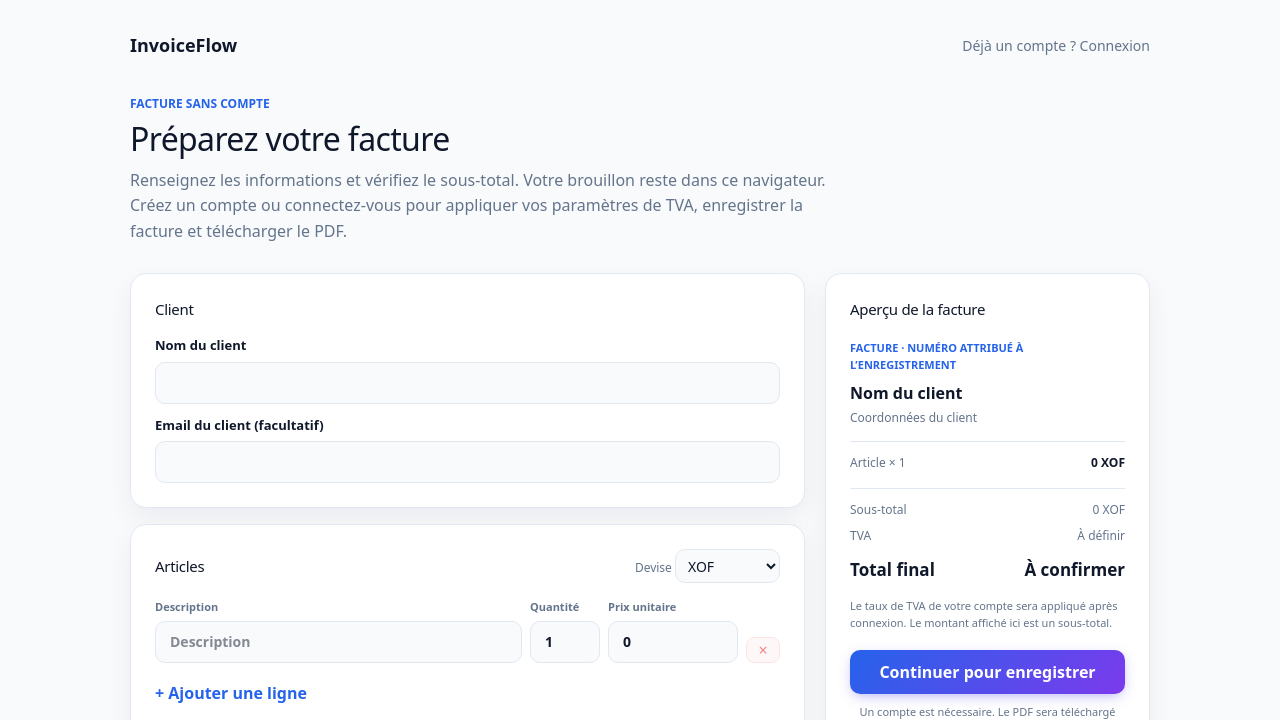
Test case: GuestInvoicePage › adds and removes line items while always keeping at least one line
Click the button "+ Ajouter une ligne": (231, 693) top-left (155, 673), bottom-right (307, 713)
(page scrolled)
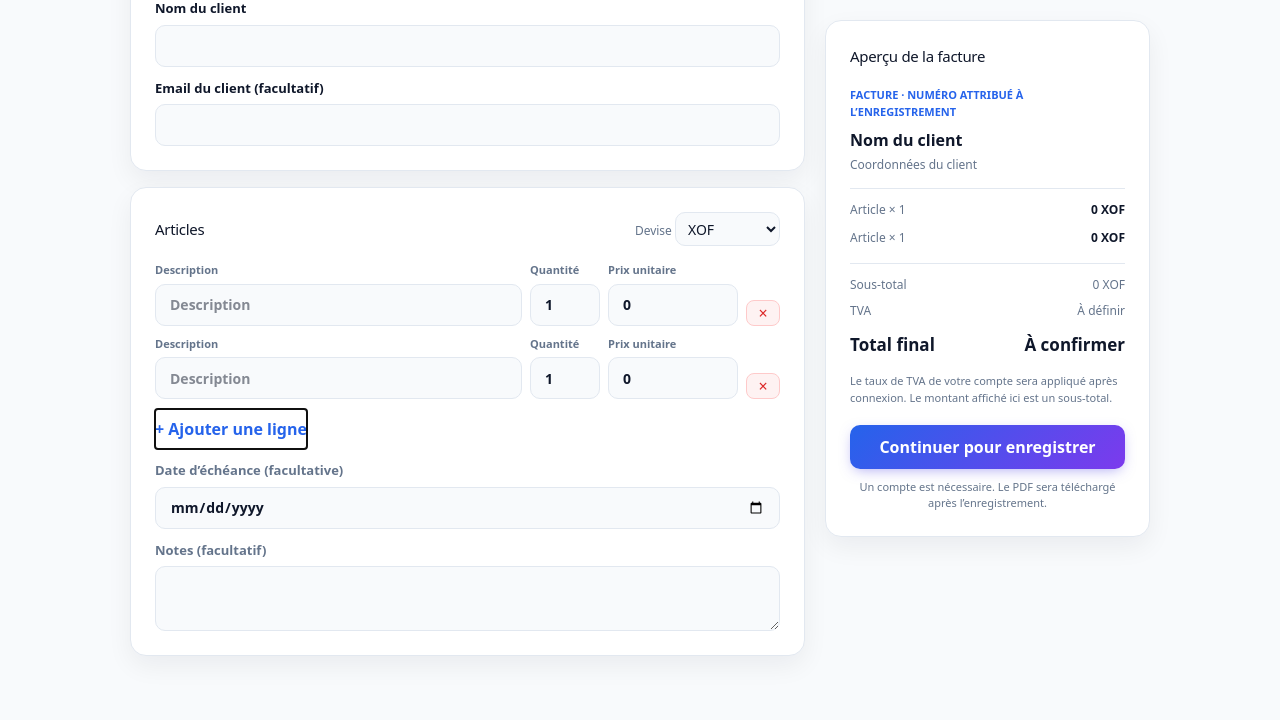
Now the field named "Description article 2" is shown, box top-left (155, 357), bottom-right (522, 399)
Now the number of buttons named "Supprimer la ligne" is 2
Click the button named "Supprimer la ligne": (763, 386) top-left (746, 373), bottom-right (780, 399)
(page scrolled)
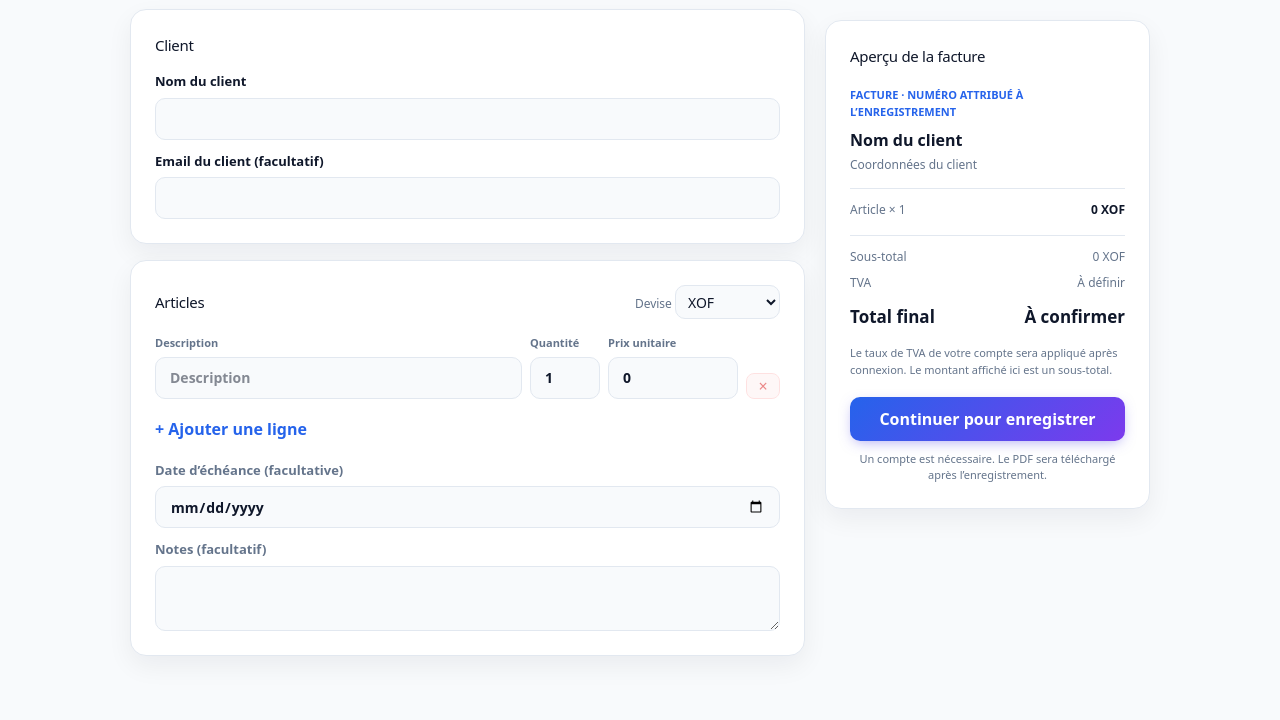
Now the button named "Supprimer la ligne" is disabled, box top-left (746, 373), bottom-right (780, 399)
